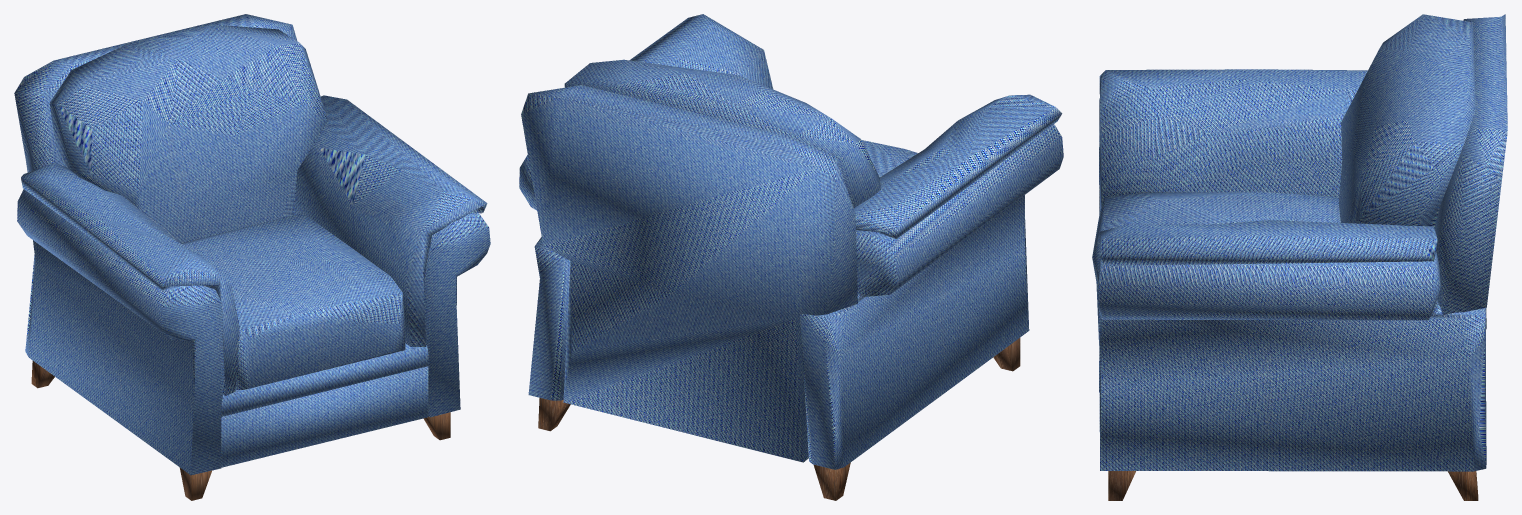
File: armchair1.fbx
3 renders of one model, left to right at view 1: azimuth 30°, elevation 25°; view 2: azimuth 150°, elevation 25°; view 3: azimuth 270°, elevation 25°, orthographic. The views are drawn at different scales.
Parts seen in each view (by area): view 1: side_001.001; view 2: side_001.001; view 3: side_001.001.
Boxes of the visible parts, x1,y1,x2,y2 form: side_001.001: (14, 14, 490, 500); side_001.001: (519, 14, 1063, 500); side_001.001: (1092, 14, 1507, 500).
Bounding box in the file's own units: 91.92 × 86.22 × 86.79.
Materials: 2 (2 with a texture image).
